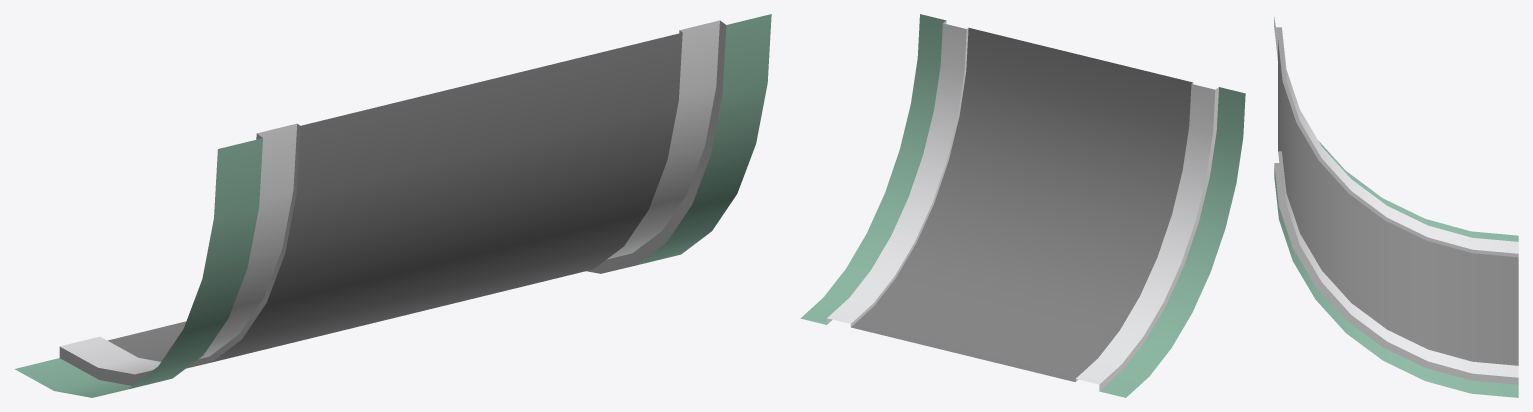
The model's file is roadRamp90.fbx.
3 renders of one model, left to right at view 1: azimuth 30°, elevation 25°; view 2: azimuth 150°, elevation 25°; view 3: azimuth 270°, elevation 25°, orthographic. The views are drawn at different scales.
Parts seen in each view (by area): view 1: roadStraight; view 2: roadStraight; view 3: roadStraight.
Part boxes in pixels (left/top/right/bottom): roadStraight: left=15, top=14, right=771, bottom=397; roadStraight: left=800, top=14, right=1245, bottom=397; roadStraight: left=1274, top=17, right=1518, bottom=397.
Bounding box in the file's own units: 1000 × 637 × 637.
